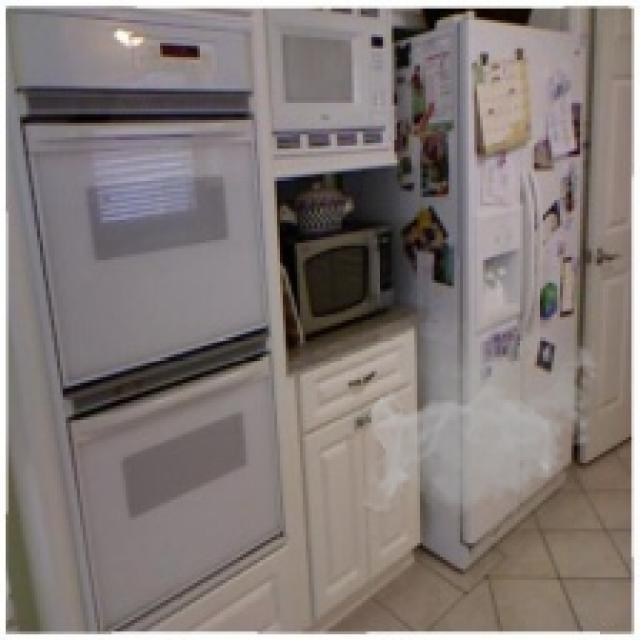Smoke: (363, 323, 606, 523)
